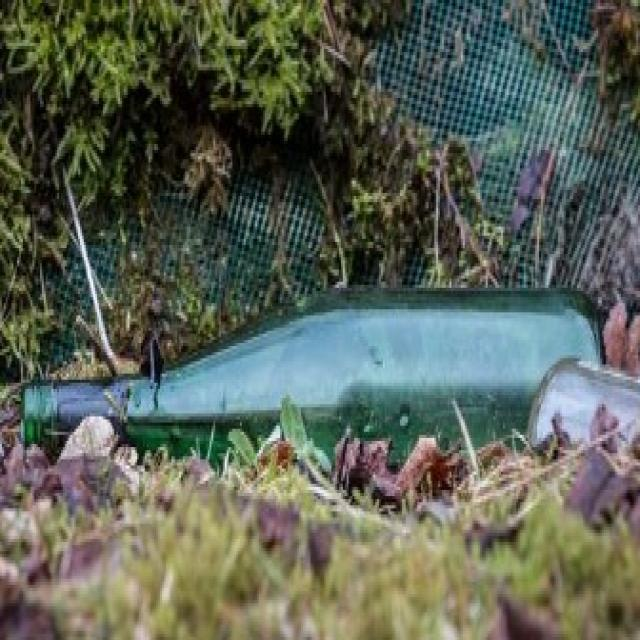electronic: (18, 281, 614, 463)
